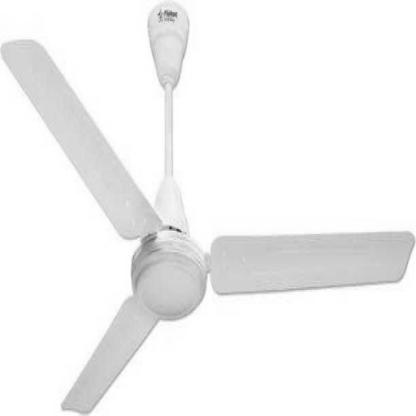ceiling-fan: (0, 0, 415, 414)
